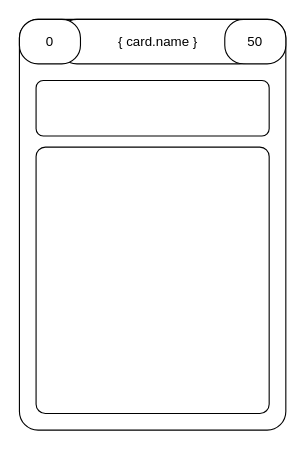
Image size: 305x450. Some labels were removed from this diagram. The centre of each missing label's shape, as x and y in pixels:
"{ card.description }" belongs at (x=152, y=107).
"{ card.life-effects }" belongs at (x=152, y=279).
